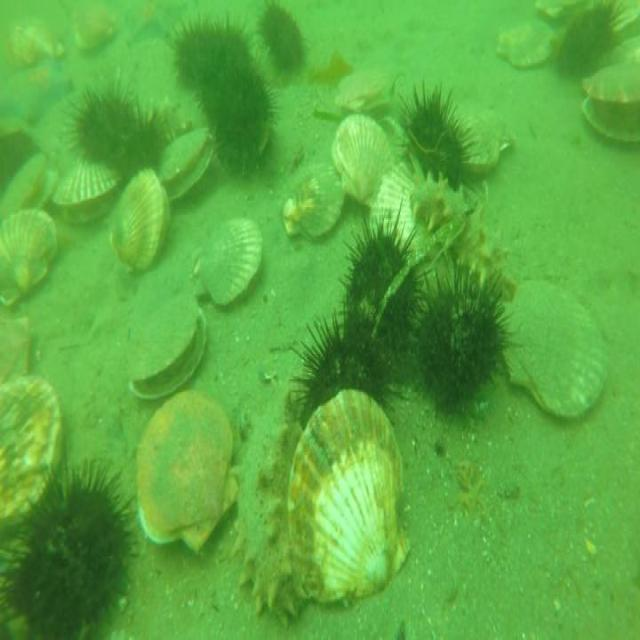echinus: (412, 267, 508, 420), (292, 310, 402, 434), (344, 205, 416, 378), (200, 51, 274, 168), (396, 76, 470, 186), (68, 73, 138, 169), (550, 0, 626, 88), (254, 1, 310, 87), (168, 10, 223, 96), (114, 110, 167, 182)
holothurian: (232, 352, 312, 621), (409, 164, 515, 300)
scallop: (292, 384, 414, 612), (495, 264, 613, 430), (132, 387, 236, 561), (0, 360, 61, 543), (129, 290, 209, 408), (193, 212, 266, 311), (112, 164, 171, 280), (0, 202, 60, 316), (330, 104, 396, 206), (282, 148, 346, 246), (580, 52, 640, 153), (44, 158, 122, 229), (369, 156, 427, 250), (454, 96, 515, 185), (151, 127, 218, 206), (314, 58, 390, 118), (4, 9, 66, 76), (495, 11, 557, 71), (0, 155, 60, 216), (0, 308, 37, 392), (72, 0, 121, 58)
